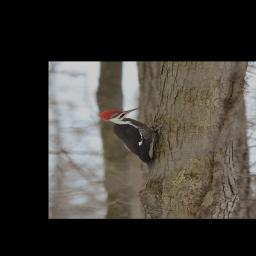Woodpecker: (97, 108, 168, 177)
